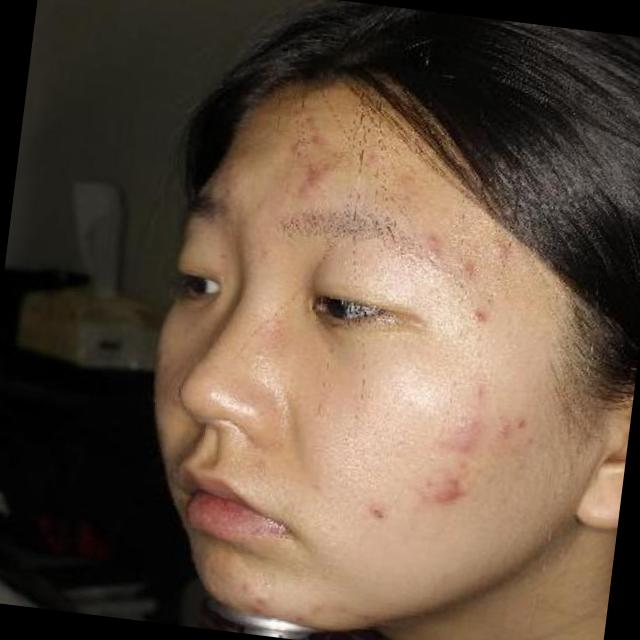acne: (432, 401, 498, 465)
nodules: (422, 460, 482, 520), (292, 161, 339, 193), (464, 300, 492, 332), (362, 498, 390, 530)
